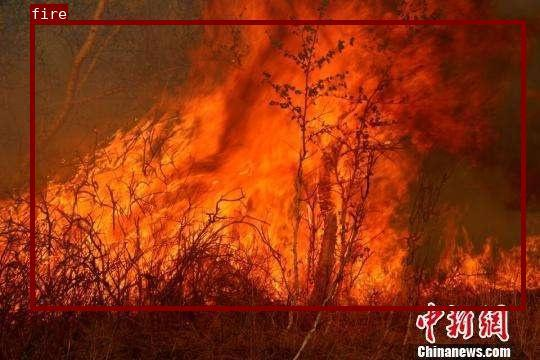fire: (29, 19, 525, 310)
